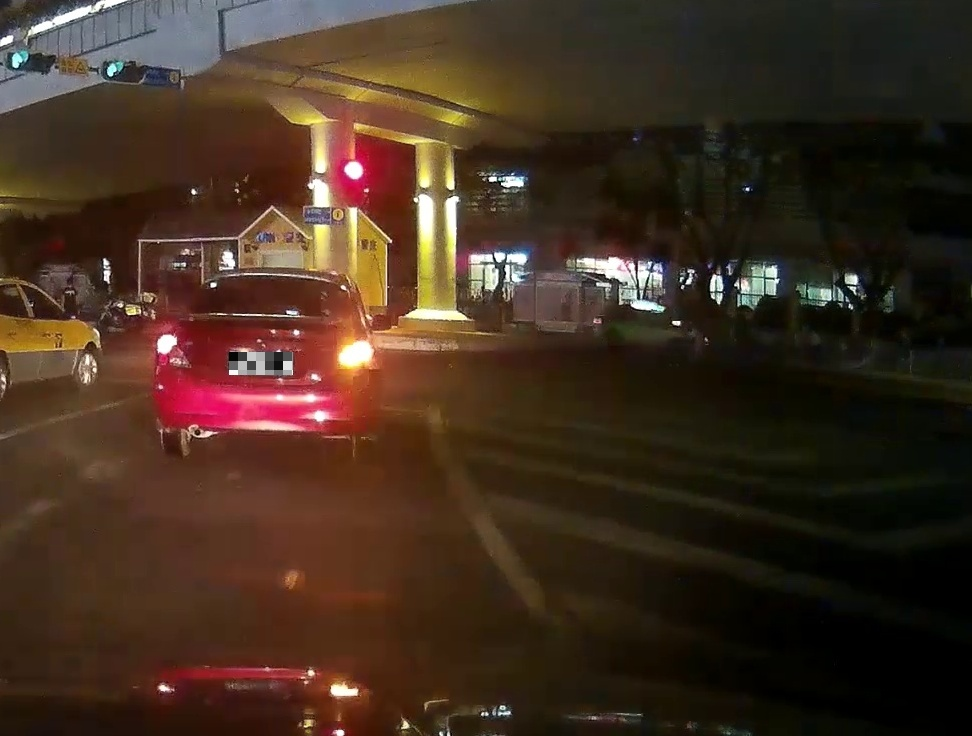L_light: (156, 335, 191, 368)
R_light: (335, 339, 369, 368)
T_light: (248, 275, 275, 283)
night-right: (153, 266, 372, 463)
plate_1: (229, 352, 293, 375)
